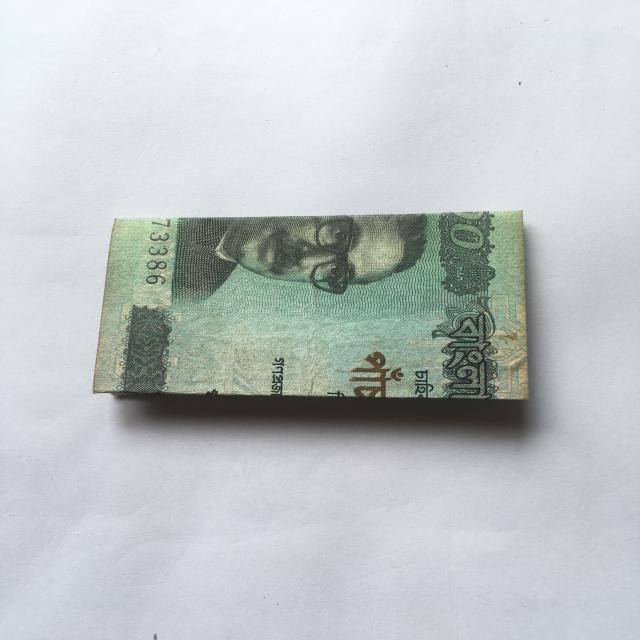Taka: (102, 210, 538, 403)
